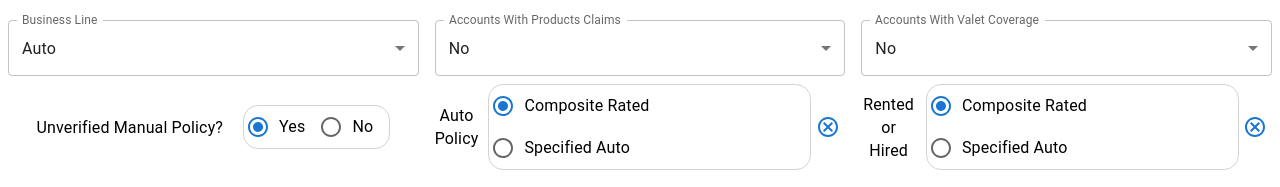
Test: CctInstructionsPolicy › clears Rented or Hired selection when second cancel button is clicked
This screenshot has width=1280, height=187.
Check: the radio button labelled "Composite Rated" next to "Rented" is checked, box [929, 94, 1087, 118]
Click the button named "clear rented or hired" at x=1255, y=127, box [1239, 112, 1272, 142]
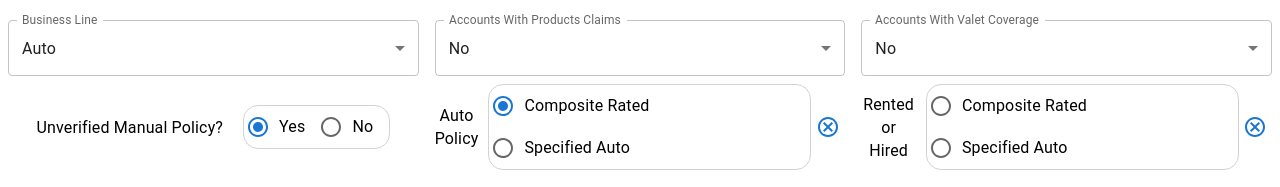
Check: the radio button labelled "Composite Rated" next to "Rented" is not checked, box [929, 94, 1087, 118]
